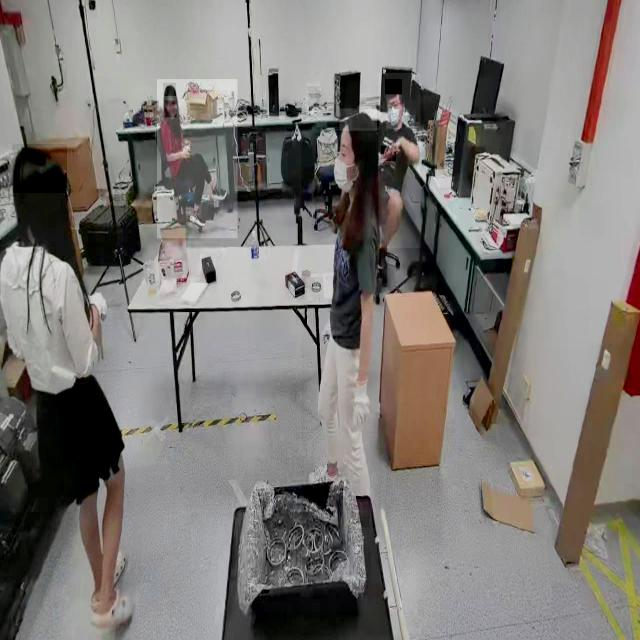face_mask: (328, 136, 355, 195), (386, 94, 402, 129)
face_nomask: (165, 100, 177, 118)
hand_glove: (346, 370, 378, 434), (90, 278, 112, 324)
hand_noglove: (381, 146, 397, 162), (392, 134, 404, 155), (182, 144, 190, 159)
head_nohelmet: (12, 144, 68, 194), (340, 108, 378, 132), (385, 79, 403, 95), (163, 83, 177, 97)
person: (0, 144, 136, 639), (302, 108, 382, 528), (157, 79, 238, 239), (379, 73, 421, 249)
